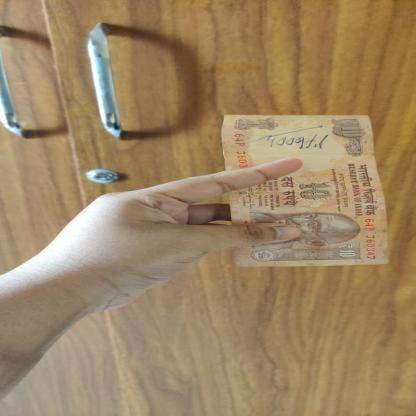Old10Front: (220, 114, 392, 267)
